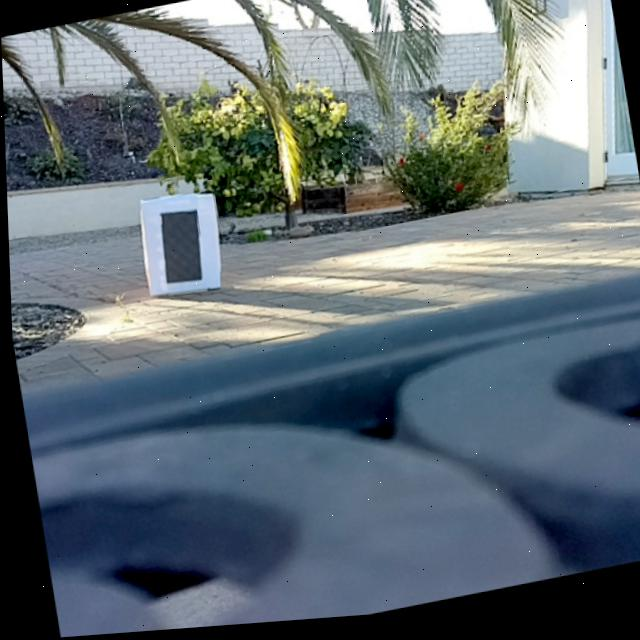led: (152, 204, 207, 291)
